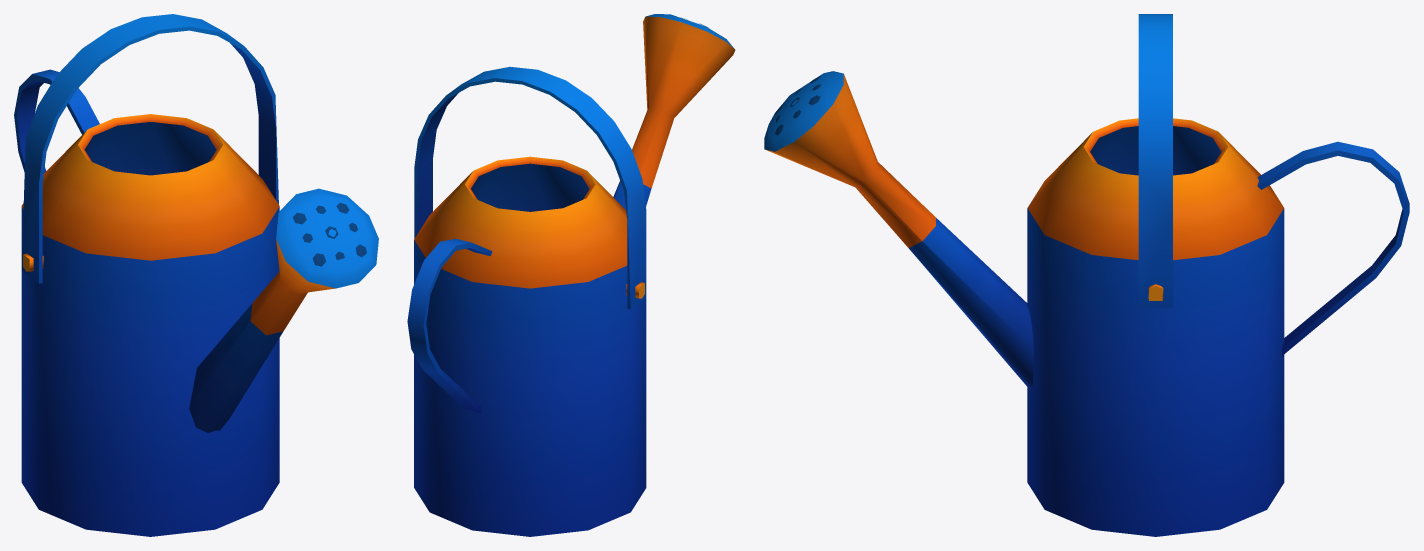
Rendered from waterer.glb.
The picture shows the model from 3 angles, left to right: view 1: azimuth 30°, elevation 25°; view 2: azimuth 150°, elevation 25°; view 3: azimuth 270°, elevation 25°; orthographic projection. The views are drawn at different scales.
Size of the model in its own units: 0.3684 by 0.6501 by 0.8333.
Materials: 1 (1 with a texture image).
